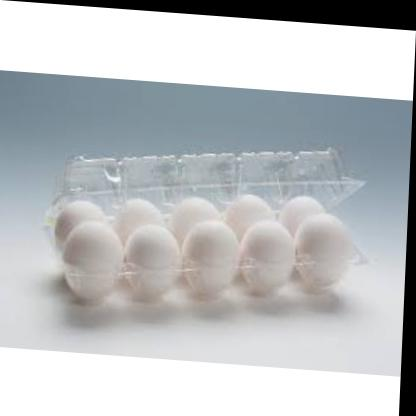egg: (179, 209, 244, 298), (293, 203, 358, 290), (234, 208, 300, 292), (124, 218, 189, 302), (61, 218, 128, 298), (52, 191, 110, 251), (167, 186, 224, 243), (278, 183, 339, 233), (220, 184, 284, 230), (113, 192, 173, 239)
